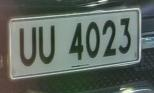0: (84, 17, 102, 63)
2: (100, 15, 119, 62)
3: (118, 15, 135, 58)
4: (66, 16, 86, 67)
U: (36, 21, 60, 69), (17, 22, 39, 71)
